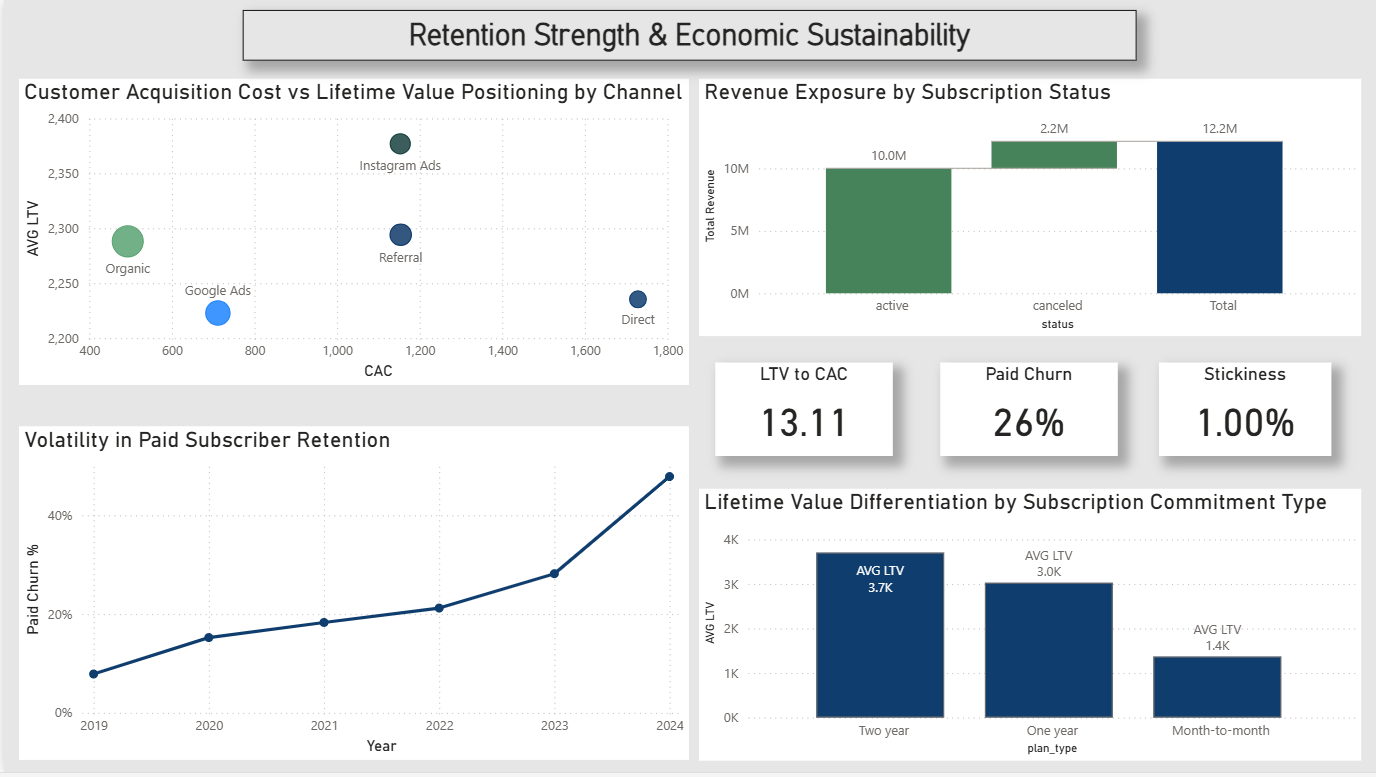

What the dashboard file says about the page in this screenshot:
{"tool":"powerbi","page":{"name":"Page 4","canvas":[1280,720],"ordinal":3},"visuals":[{"type":"scatterChart","title":"Customer Acquisition Cost vs Lifetime Value Positioning by Channel","fields":{"X":["tab.CAC"],"Y":["tab.AVG LTV"],"Series":["users.acquisition_channel"],"Category":["users.acquisition_channel"],"Size":["tab.Total Revenue"]},"box":[14.5,73.6,624.9,285.9],"z":2000},{"type":"lineChart","title":"Volatility in Paid Subscriber Retention","fields":{"Category":["DateTable.Column Hierarchy.Year","DateTable.Column Hierarchy.Month"],"Y":["tab.Paid Churn %"]},"box":[14.5,398.1,624.9,311.3],"z":3000},{"type":"waterfallChart","title":"Revenue Exposure by Subscription Status","fields":{"Category":["subscriptions.status"],"Y":["tab.Total Revenue"]},"box":[647.9,73.6,617.7,240.1],"z":4000},{"type":"clusteredColumnChart","title":"Lifetime Value Differentiation by Subscription Commitment Type","fields":{"Y":["tab.AVG LTV"],"Category":["users.plan_type"]},"box":[647.9,456,617.7,253.4],"z":4001},{"type":"card","title":"LTV to CAC","fields":{"Values":["tab.LTV to CAC"]},"box":[663.5,337.8,165.3,86.9],"z":4003},{"type":"card","title":"Paid Churn ","fields":{"Values":["tab.Paid Churn %"]},"box":[873.5,337.8,165.3,86.9],"z":4004},{"type":"card","title":"Stickiness","fields":{"Values":["tab.Stickiness"]},"box":[1077.4,337.8,160.5,86.9],"z":4005},{"type":"textbox","box":[223.2,9.7,833.7,47.1],"z":4006}]}

Visuals, with their boxes in screenshot pixels (x1, y1, x2, y2), scaled from the page's 1280x720 canvas onto the 1376x777 screenshot:
"Customer Acquisition Cost vs Lifetime Value Positioning by Channel" scatterChart: detection(16, 79, 687, 388)
"Volatility in Paid Subscriber Retention" lineChart: detection(16, 430, 687, 766)
"Revenue Exposure by Subscription Status" waterfallChart: detection(696, 79, 1361, 339)
"Lifetime Value Differentiation by Subscription Commitment Type" clusteredColumnChart: detection(696, 492, 1361, 766)
"LTV to CAC" card: detection(713, 365, 891, 458)
"Paid Churn " card: detection(939, 365, 1117, 458)
"Stickiness" card: detection(1158, 365, 1331, 458)
textbox: detection(240, 10, 1136, 61)
